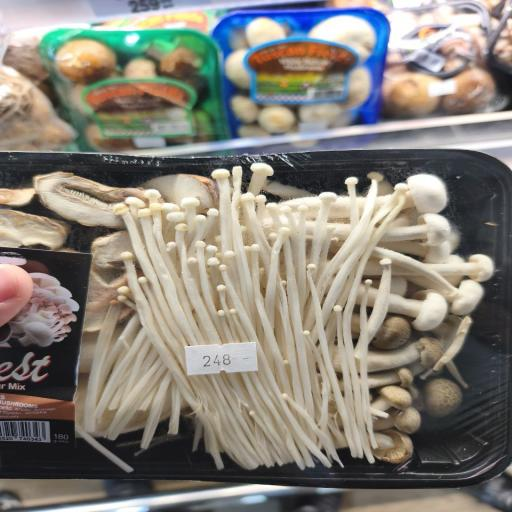Enoki Mushroom: (75, 141, 419, 486)
